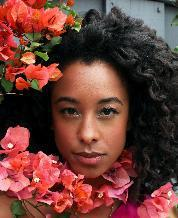face: (54, 96, 122, 165)
